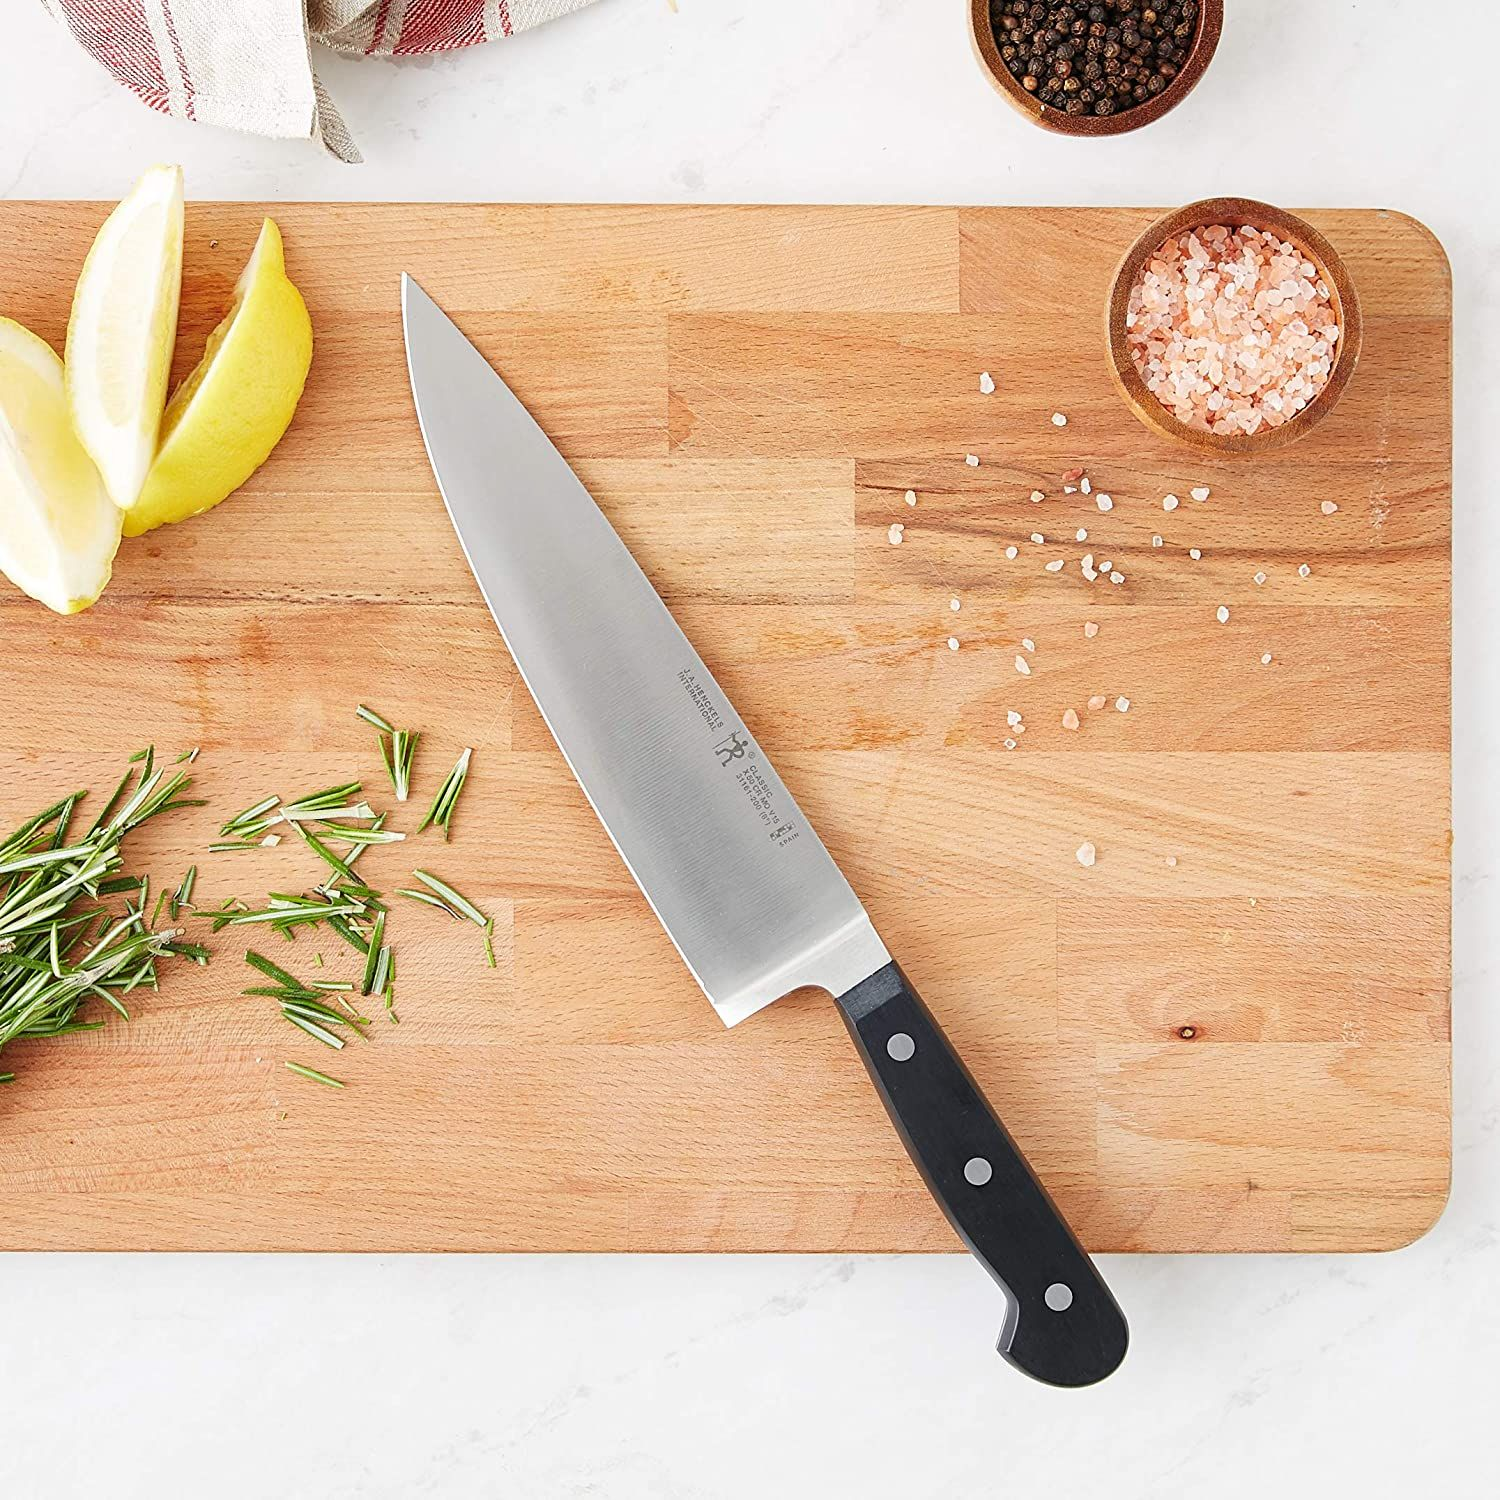knife: (392, 264, 1137, 1391)
